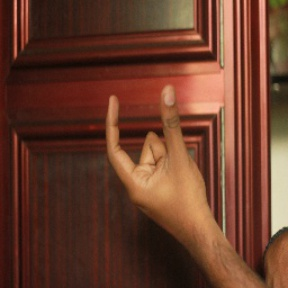U: (97, 77, 200, 211)
